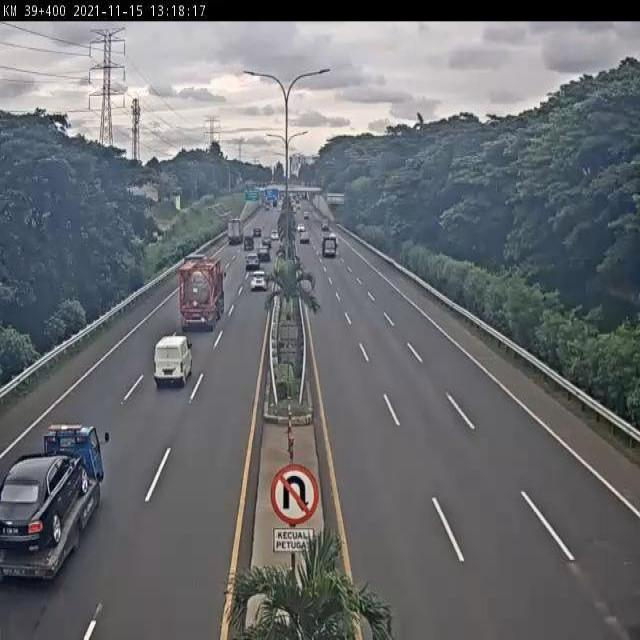ARABA: (250, 269, 269, 291)
KAMYONET: (0, 421, 107, 576)
OTOBUS: (153, 334, 195, 386)
TIR: (179, 259, 224, 332)
